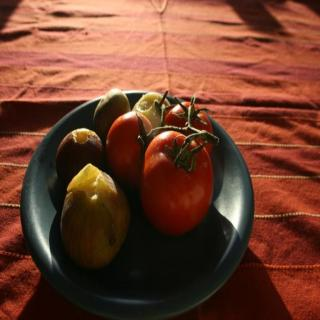tomato: (138, 126, 214, 238), (108, 109, 162, 179), (165, 94, 218, 162)
